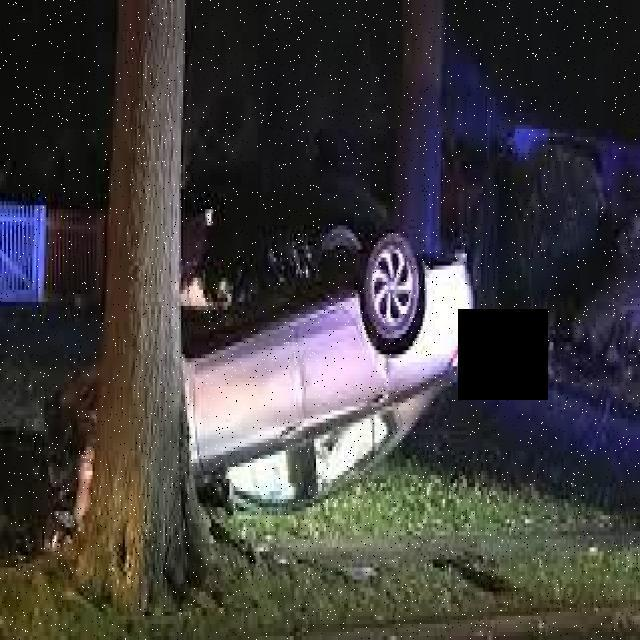single accident: (39, 199, 538, 561)
